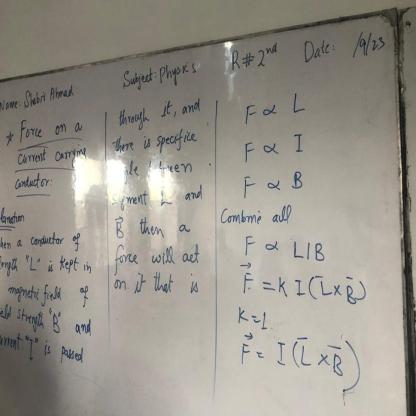Handwritten text: (111, 86, 214, 133), (107, 231, 208, 274), (116, 49, 206, 94), (10, 104, 98, 150), (7, 303, 98, 346), (17, 335, 96, 383), (106, 119, 205, 157), (105, 179, 210, 213), (104, 150, 197, 188), (107, 265, 205, 299), (3, 278, 94, 310), (16, 73, 81, 112), (12, 141, 94, 170), (107, 213, 194, 240), (219, 201, 301, 229), (12, 225, 86, 253), (23, 252, 95, 278), (288, 234, 334, 262), (9, 170, 56, 194), (299, 35, 333, 63), (289, 80, 313, 118), (240, 132, 264, 166), (288, 165, 313, 194), (238, 169, 262, 195), (236, 234, 262, 258), (241, 96, 259, 127), (293, 127, 312, 155)
Whiteboard: (0, 11, 409, 416)
